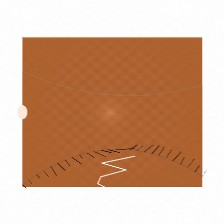foreign_body_visible: (118, 91, 143, 111)
